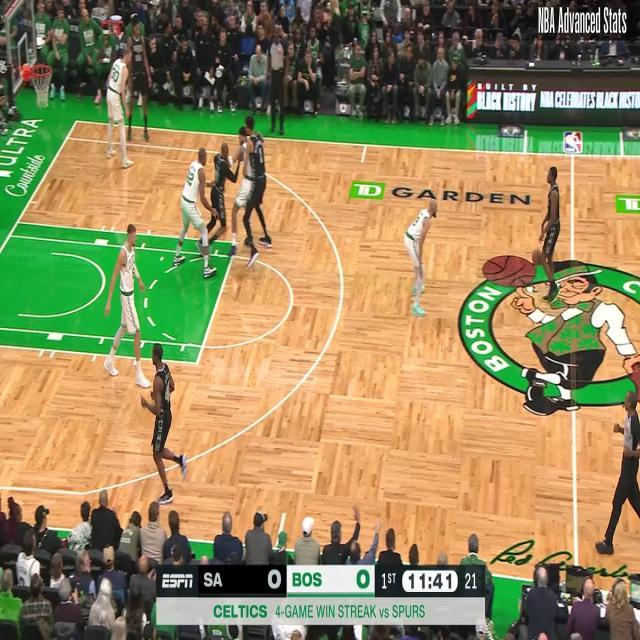ball: (530, 237, 544, 272)
player: (102, 221, 152, 391), (138, 342, 188, 508), (171, 145, 219, 281), (198, 136, 239, 262), (244, 108, 274, 270), (402, 196, 438, 320), (102, 46, 135, 171), (535, 164, 562, 304), (122, 19, 152, 142), (233, 121, 253, 258)
